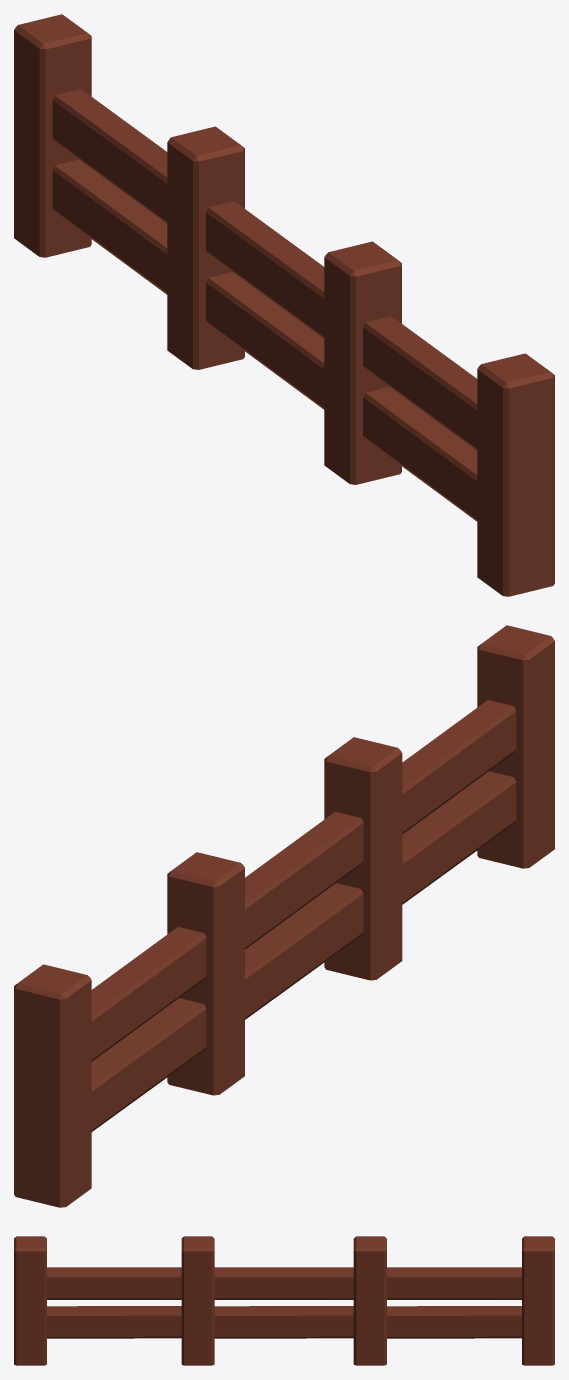
File: fence3.fbx
The picture shows the model from 3 angles, top to bottom: view 1: azimuth 30°, elevation 25°; view 2: azimuth 150°, elevation 25°; view 3: azimuth 270°, elevation 25°; orthographic projection. The views are drawn at different scales.
Parts seen in each view (by area): view 1: fence; view 2: fence; view 3: fence.
Boxes of the visible parts, bbox=[...] form: fence: bbox=[14, 14, 554, 596]; fence: bbox=[14, 625, 554, 1207]; fence: bbox=[14, 1236, 554, 1365].
Size of the model in its own units: 0.9283 by 3.61 by 15.2.
1 material, 1 textured.
